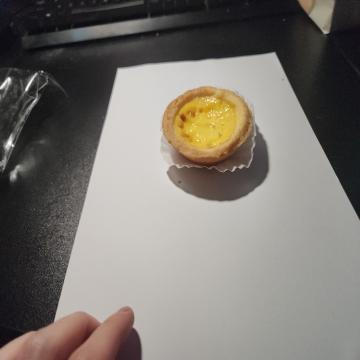EggTart: (162, 84, 250, 164)
